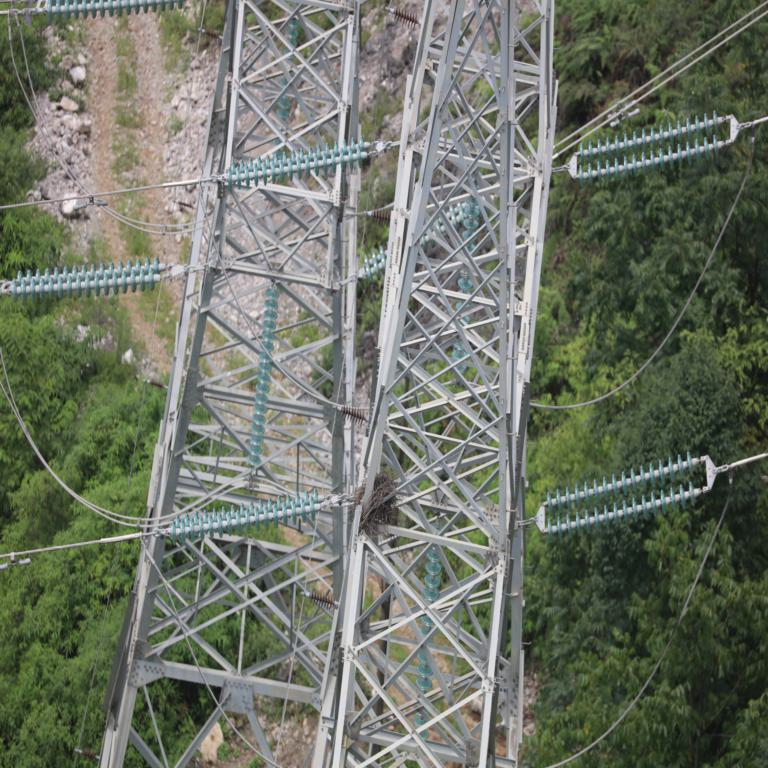nest: (352, 475, 394, 535)
